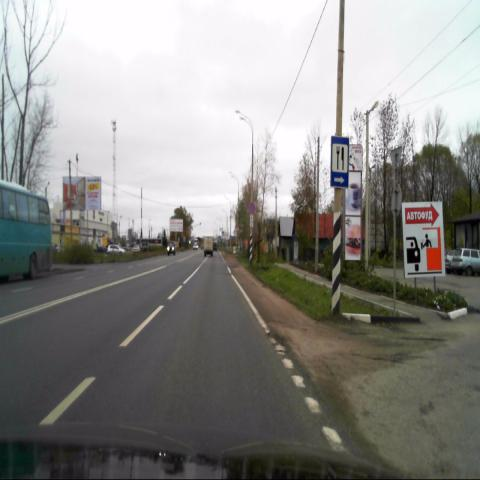7_7: (330, 137, 350, 188)
